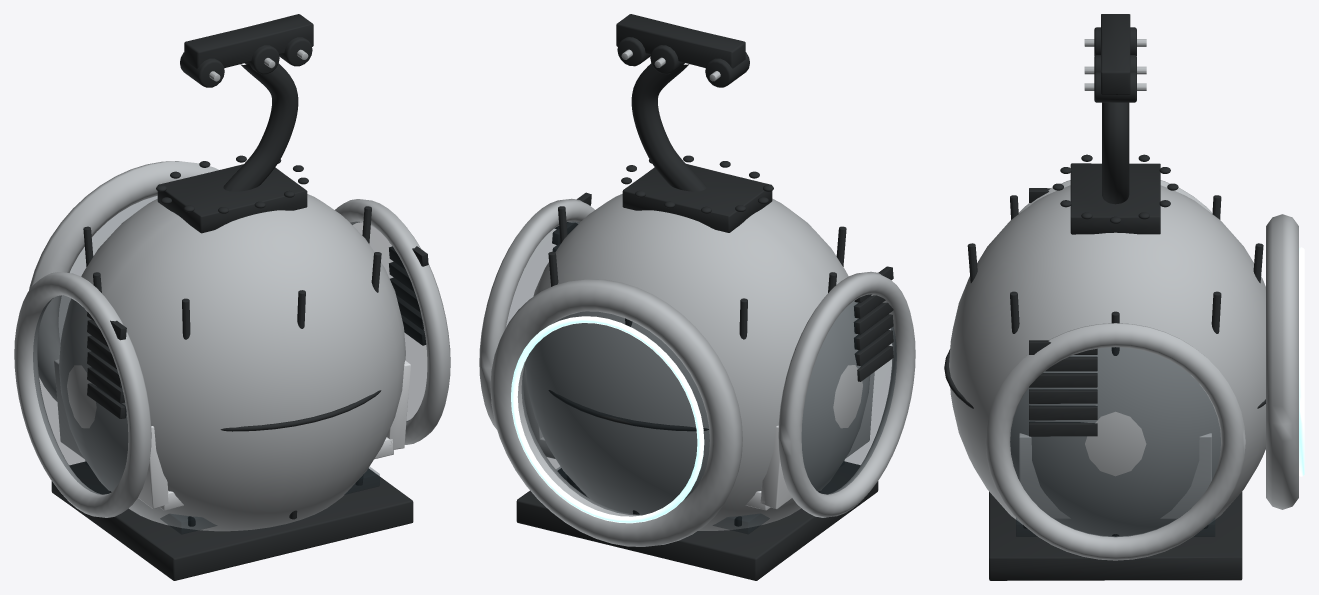
The model's file is singapore-cable-car-skyorb-v1.glb.
The picture shows the model from 3 angles, left to right: view 1: azimuth 30°, elevation 25°; view 2: azimuth 150°, elevation 25°; view 3: azimuth 270°, elevation 25°; orthographic projection. The views are drawn at different scales.
Parts seen in each view (by area): view 1: cabin-shell/orb-shell, cabin-shell/lower-skirt, window-system/side-window-ring--1, window-system/side-glazing--1, window-system/front-window-ring, window-system/side-window-ring-1, hanger-grip/roof-plate, hanger-grip/s-curved-hanger, hanger-grip/grip-beam, window-system/side-glazing-1, interior/bench-back--1, window-system/front-glazing (+8 smaller); view 2: cabin-shell/orb-shell, window-system/front-glazing, window-system/front-window-ring, window-system/side-window-ring--1, window-system/side-glazing--1, cabin-shell/lower-skirt, hanger-grip/roof-plate, window-system/side-window-ring-1, window-system/front-led-ring, hanger-grip/s-curved-hanger, hanger-grip/grip-beam, interior/bench-back--1 (+10 smaller); view 3: cabin-shell/orb-shell, window-system/side-glazing-1, window-system/side-window-ring-1, cabin-shell/lower-skirt, window-system/front-window-ring, hanger-grip/roof-plate, hanger-grip/s-curved-hanger, interior/bench-back-1, hanger-grip/grip-beam, window-system/front-led-ring, rib-louvre-system/louvre-1-1, rib-louvre-system/louvre-1-2 (+4 smaller).
Part boxes in pixels (box(x1,y1,x2,y2)): cabin-shell/orb-shell: box(59, 194, 405, 531); cabin-shell/lower-skirt: box(51, 461, 413, 580); window-system/side-window-ring--1: box(14, 272, 151, 517); window-system/side-glazing--1: box(33, 295, 127, 494); window-system/front-window-ring: box(29, 161, 218, 401); window-system/side-window-ring-1: box(335, 199, 450, 444); hanger-grip/roof-plate: box(157, 164, 307, 233); hanger-grip/s-curved-hanger: box(223, 63, 298, 191); hanger-grip/grip-beam: box(184, 14, 313, 68); window-system/side-glazing-1: box(350, 221, 426, 421); interior/bench-back--1: box(54, 359, 168, 509); window-system/front-glazing: box(59, 196, 157, 340); cabin-shell/orb-shell: box(525, 194, 870, 530); window-system/front-glazing: box(522, 311, 709, 514); window-system/front-window-ring: box(490, 279, 742, 546); window-system/side-window-ring--1: box(778, 271, 915, 517); window-system/side-glazing--1: box(802, 301, 896, 494); cabin-shell/lower-skirt: box(516, 461, 878, 580); hanger-grip/roof-plate: box(622, 164, 772, 232); window-system/side-window-ring-1: box(479, 198, 594, 429); window-system/front-led-ring: box(511, 316, 704, 523); hanger-grip/s-curved-hanger: box(631, 63, 706, 191); hanger-grip/grip-beam: box(616, 14, 745, 68); interior/bench-back--1: box(760, 372, 874, 509); cabin-shell/orb-shell: box(949, 185, 1265, 536); window-system/side-glazing-1: box(1010, 347, 1220, 536); window-system/side-window-ring-1: box(985, 323, 1245, 560); cabin-shell/lower-skirt: box(989, 491, 1242, 580); window-system/front-window-ring: box(1266, 214, 1298, 509); hanger-grip/roof-plate: box(1070, 163, 1160, 234); hanger-grip/s-curved-hanger: box(1102, 102, 1129, 204); interior/bench-back-1: box(1019, 433, 1211, 518); hanger-grip/grip-beam: box(1101, 14, 1130, 94); window-system/front-led-ring: box(1299, 247, 1304, 476); rib-louvre-system/louvre-1-1: box(1029, 405, 1097, 420); rib-louvre-system/louvre-1-2: box(1029, 389, 1097, 403).
Size of the model in its own units: 2.32 by 3.42 by 2.2.
Materials: 4 (4 with a texture image).
